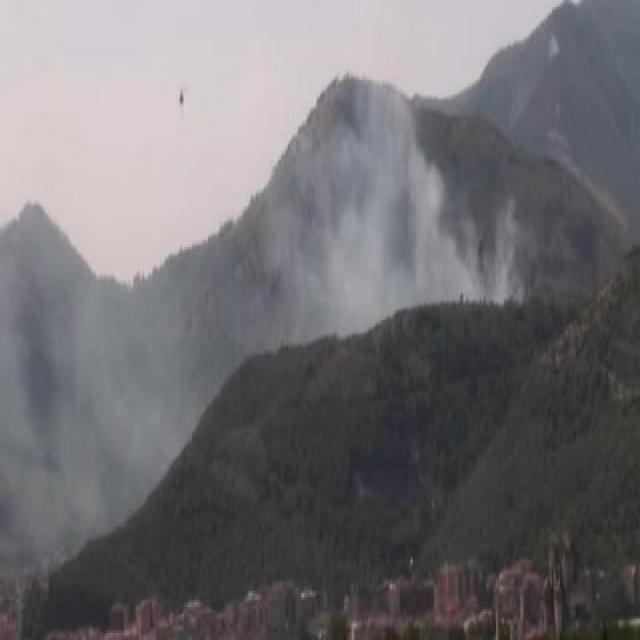smoke: (275, 103, 514, 314), (38, 286, 171, 486)
